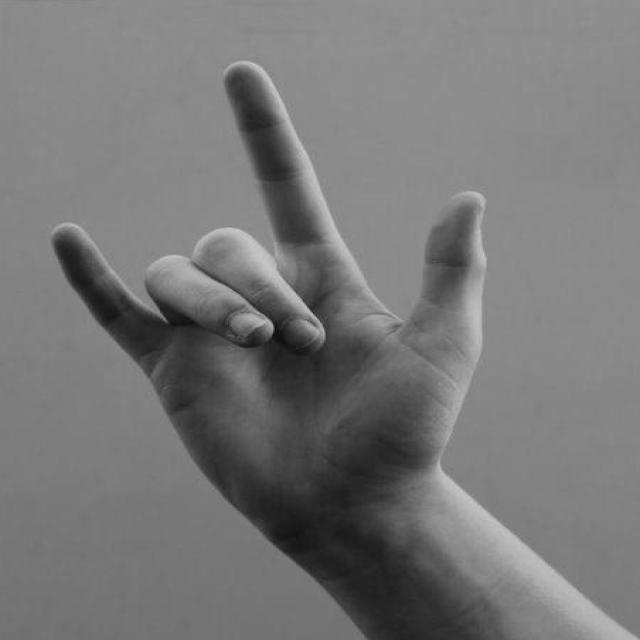i love you: (43, 53, 496, 569)
